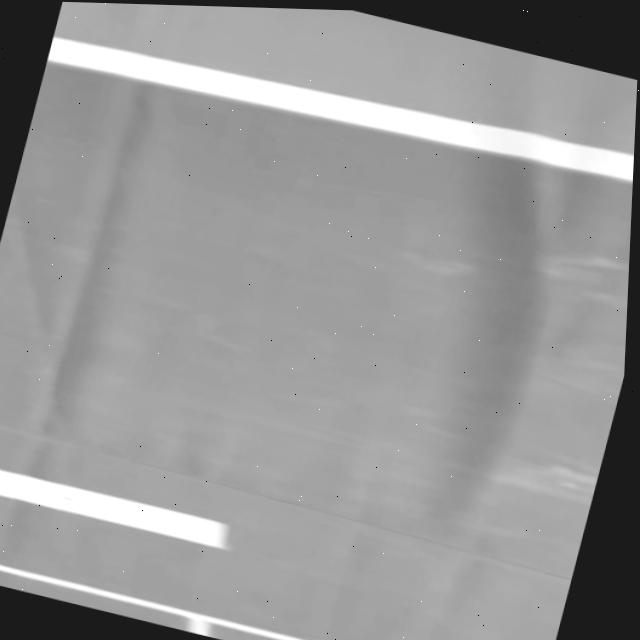center: (0, 469, 225, 547)
left: (46, 36, 634, 181)
